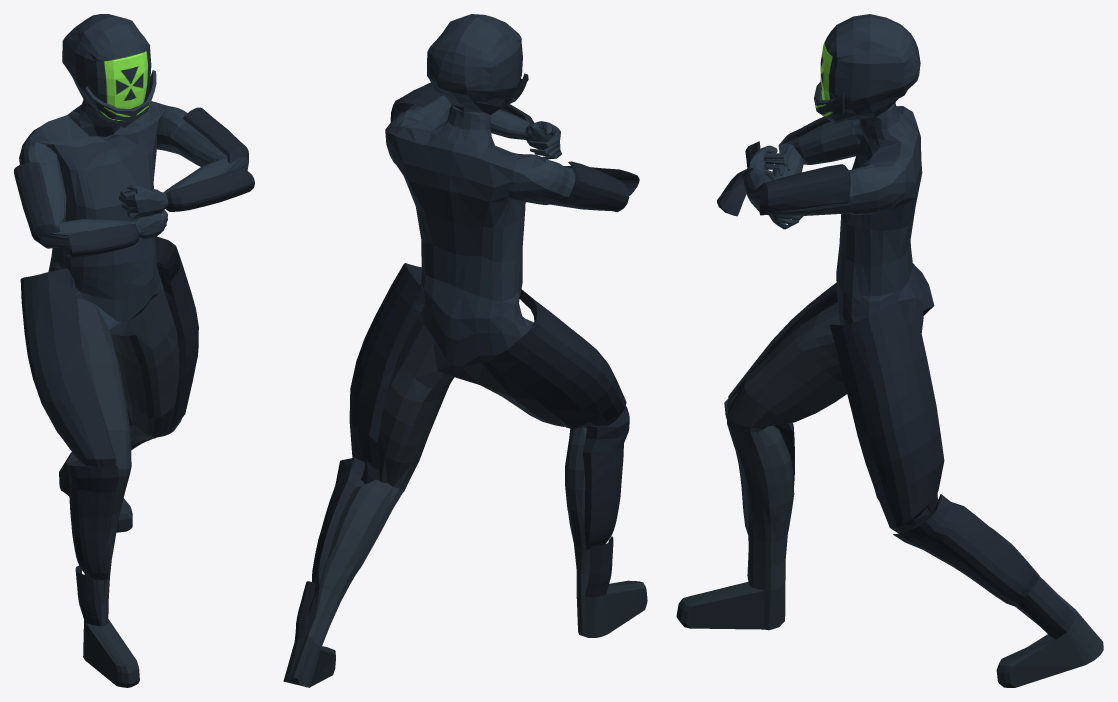
The model's file is Bastion_WL_000024.obj.
The picture shows the model from 3 angles, left to right: view 1: azimuth 30°, elevation 25°; view 2: azimuth 150°, elevation 25°; view 3: azimuth 270°, elevation 25°; orthographic projection. The views are drawn at different scales.
Visible parts, largest first — view 1: Cube.002; view 2: Cube.002; view 3: Cube.002.
Part boxes in pixels (<box>): Cube.002: <box>14,14,254,687</box>; Cube.002: <box>283,14,647,687</box>; Cube.002: <box>676,14,1103,687</box>.
Bounding box in the file's own units: 1.34 × 3.58 × 2.17.
